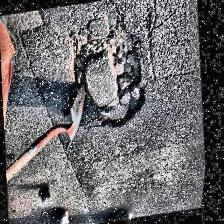pothole: (60, 21, 162, 139)
